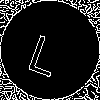L: (25, 25, 67, 77)
